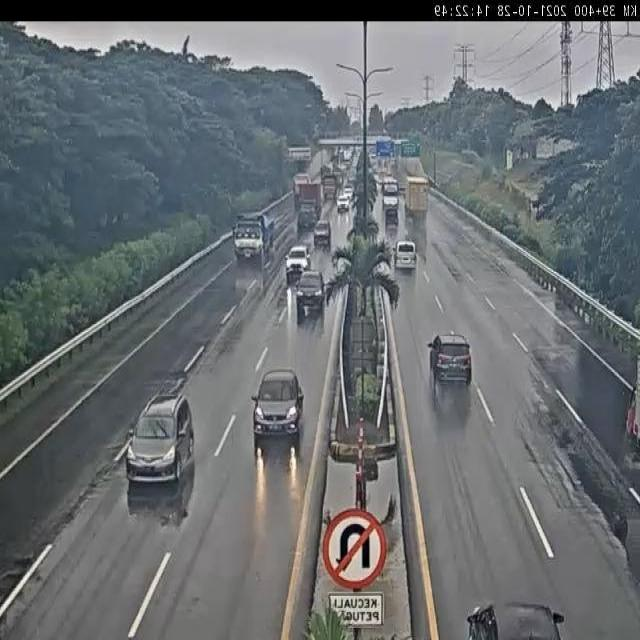Bus: (381, 178, 400, 212)
Car: (127, 384, 195, 483), (252, 368, 306, 448), (428, 332, 472, 394), (295, 268, 327, 322), (285, 244, 311, 280), (314, 220, 332, 248), (337, 188, 352, 212)
Truck: (233, 210, 276, 266), (405, 176, 429, 217), (292, 173, 310, 210), (322, 174, 338, 203)
Van: (394, 240, 418, 270)
